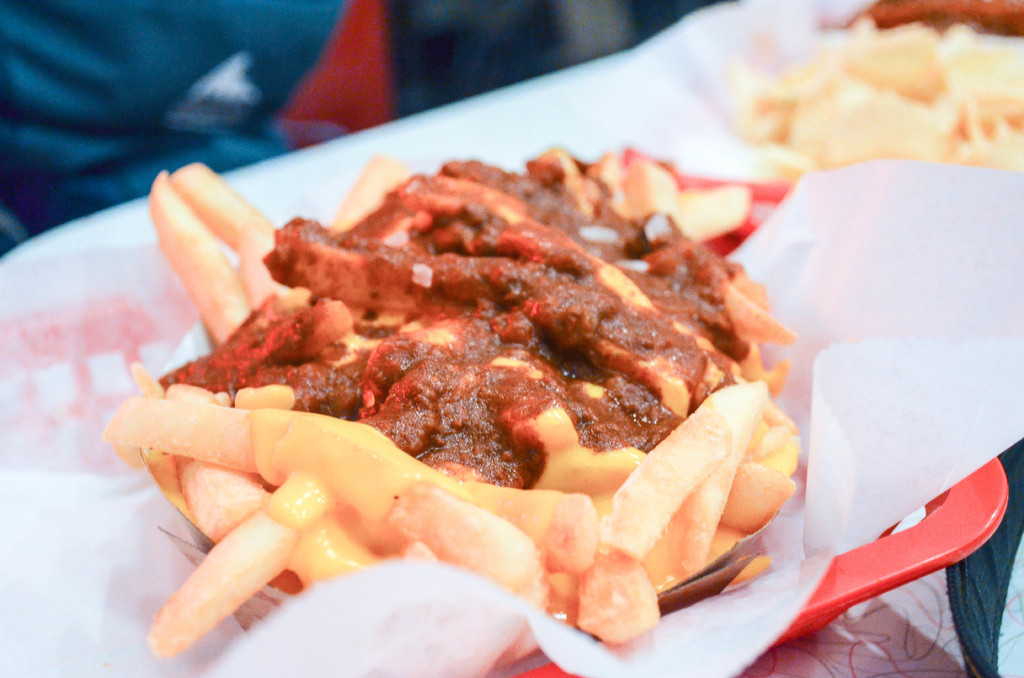French fries: (115, 342, 785, 657)
